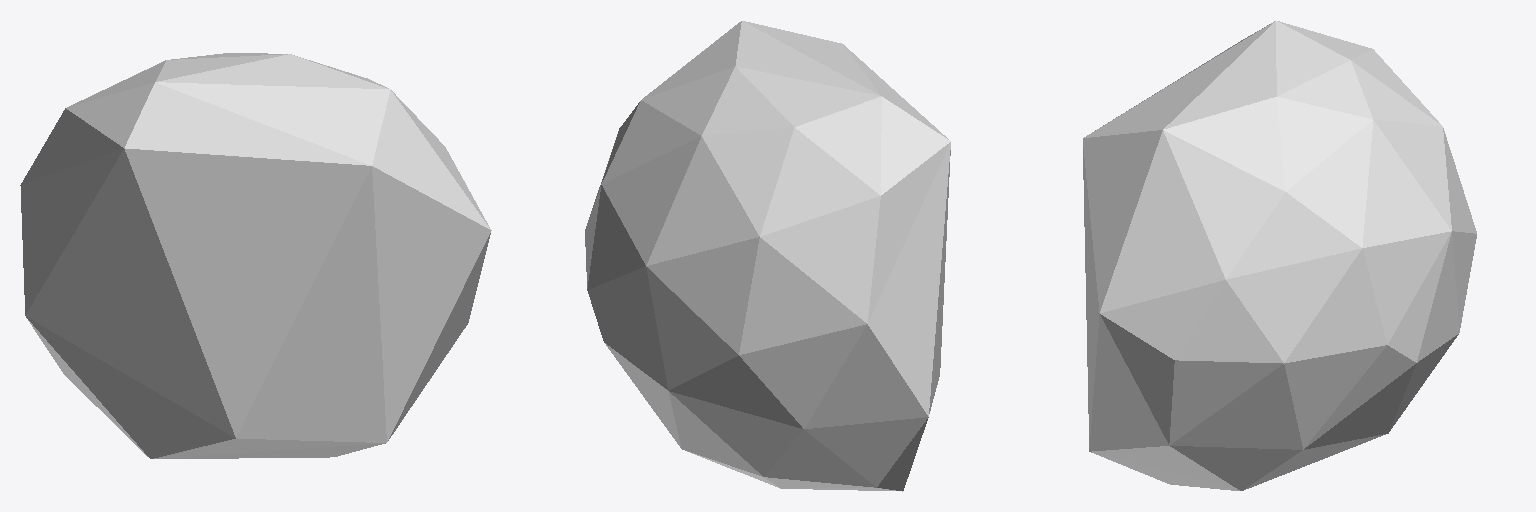
robot.urdf — talos_larm_rom:
<?xml version="1.0" ?>
<robot name="talos_larm_rom" xmlns:controller="http://playerstage.sourceforge.net/gazebo/xmlschema/#controller" xmlns:interface="http://playerstage.sourceforge.net/gazebo/xmlschema/#interface" xmlns:sensor="http://playerstage.sourceforge.net/gazebo/xmlschema/#sensor" xmlns:xacro="http://ros.org/wiki/xacro">

  <link name="torso_2_link">
    <inertial>
      <origin rpy="0.00000 0.00000 0.00000" xyz="-0.04551 -0.00053 0.16386"/>
      <mass value="17.55011"/>
      <inertia ixx="0.37376900000" ixy="0.00063900000" ixz="0.01219600000" iyy="0.24790200000" iyz="0.00000700000" izz="0.28140400000"/>
    </inertial>    
    <visual>
      <origin rpy="0 0 0" xyz="0 0 0"/>
      <geometry>
        <mesh filename="package://talos-rbprm/meshes/talos_larm_rom.stl" scale="1 1 1"/>
      </geometry>
      <material name="LightGrey"/>
    </visual>
    <collision>
      <origin rpy="0 0 0" xyz="0 0 0"/>
      <geometry>
        <mesh filename="package://talos-rbprm/meshes/talos_larm_rom.stl" scale="1 1 1"/>
      </geometry>
    </collision>
  </link>
  <!--************************-->
  <!--        TORSO_1  (PAN)  -->
  <!--************************-->
  <link name="torso_1_link">
    <inertial>
      <origin rpy="0.00000 0.00000 0.00000" xyz="0.00013 -0.00001 -0.01306"/>
      <mass value="3.02433"/>
      <inertia ixx="0.00759400000" ixy="0.00000100000" ixz="-0.00004800000" iyy="0.00429200000" iyz="-0.00000100000" izz="0.00749700000"/>
    </inertial>
  </link>
  <joint name="torso_1_joint" type="revolute">
    <parent link="base_link"/>
    <child link="torso_1_link"/>
    <origin rpy="0.0 0.0 0.0" xyz="0.0 0.0 0.0722"/>
    <axis xyz="0 0 1"/>
    <limit effort="78.0" lower="-1.308996939" upper="1.308996939" velocity="5.4"/>
  </joint>
  <!--************************-->
  <!--        BASE_LINK       -->
  <!--************************-->
  <link name="base_link">
    <inertial>
      <origin rpy="0.00000 0.00000 0.00000" xyz="-0.08222 0.00838 -0.07261"/>
      <mass value="13.53810"/>
      <inertia ixx="0.06989000000" ixy="-0.00011700000" ixz="0.00023000000" iyy="0.03998200000" iyz="-0.00132500000" izz="0.08234500000"/>
    </inertial>
  </link>
  <joint name="torso_2_joint" type="revolute">
    <parent link="torso_1_link"/>
    <child link="torso_2_link"/>
    <origin rpy="0.0 0.0 0.0" xyz="0.0 0.0 0.0"/>
    <axis xyz="0 1 0"/>
    <limit effort="78.0" lower="-0.261799387799" upper="0.785398163397" velocity="5.4"/>
  </joint>
  <link name="head_1_link">
    <inertial>
      <origin rpy="0.00000 0.00000 0.00000" xyz="0.00120 0.00145 0.02165"/>
      <mass value="0.65988"/>
      <inertia ixx="0.00122100000" ixy="-0.00000400000" ixz="0.00007000000" iyy="0.00092400000" iyz="-0.00004100000" izz="0.00103300000"/>
    </inertial>
  </link>
  <joint name="head_1_joint" type="revolute">
    <parent link="torso_2_link"/>
    <child link="head_1_link"/>
    <origin rpy="0.0 0.0 0.0" xyz="0.00000 0.00000 0.31600"/>
    <axis xyz="0 1 0"/>
    <limit effort="8.0" lower="-0.261799387799" upper="0.785398163397" velocity="1.0"/>
  </joint>
  <link name="head_2_link">
    <inertial>
      <origin rpy="0.00000 0.00000 0.00000" xyz="-0.01036 -0.00037 0.13778"/>
      <mass value="1.40353"/>
      <inertia ixx="0.00722500000" ixy="-0.00002500000" ixz="0.00032900000" iyy="0.00687300000" iyz="0.00004400000" izz="0.00437300000"/>
    </inertial>   
  </link>
  <joint name="head_2_joint" type="revolute">
    <parent link="head_1_link"/>
    <child link="head_2_link"/>
    <origin rpy="0.0 0.0 0.0" xyz="0.00000 0.00000 0.00000"/>
    <axis xyz="0 0 1"/>
    <limit effort="4.0" lower="-1.308996939" upper="1.308996939" velocity="1.0"/>
  </joint>
  <!-- define global properties -->
  <!-- <xacro:property name="M_PI" value="3.1415926535897931" /> -->
  <!-- Materials for visualization -->
  <material name="Blue">
    <color rgba="0.0 0.0 0.8 1.0"/>
  </material>
  <material name="Green">
    <color rgba="0.0 0.8 0.0 1.0"/>
  </material>
  <material name="Grey">
    <color rgba="0.7 0.7 0.7 1.0"/>
  </material>
  <material name="LightGrey">
    <color rgba="0.9 0.9 0.9 1.0"/>
  </material>
  <material name="DarkGrey">
    <color rgba="0.2 0.2 0.2 1.0"/>
  </material>
  <material name="Red">
    <color rgba="0.8 0.0 0.0 1.0"/>
  </material>
  <material name="White">
    <color rgba="1.0 1.0 1.0 1.0"/>
  </material>
  <material name="Orange">
    <color rgba="1.0 0.5 0.0 1.0"/>
  </material>
</robot>

--- Render facts (derived) ---
Views: 3 orthographic renders of the robot side by side, from view 1: azimuth 30°, elevation 25°; view 2: azimuth 150°, elevation 25°; view 3: azimuth 270°, elevation 25°.
Model talos_larm_rom with 5 links and 4 joints (4 revolute), rooted at base_link, posed every joint at zero.
Visible links, largest first — view 1: torso_2_link; view 2: torso_2_link; view 3: torso_2_link.
Link boxes in pixels (box(x1,y1,x2,y2)): torso_2_link: box(20, 53, 491, 458); torso_2_link: box(585, 21, 950, 491); torso_2_link: box(1083, 21, 1476, 490).
Bounding box of the posed robot: 1.11 × 0.9644 × 1.07 m (x, y, z).
1 mesh visuals loaded from 1 distinct referenced files (1 binary STL).